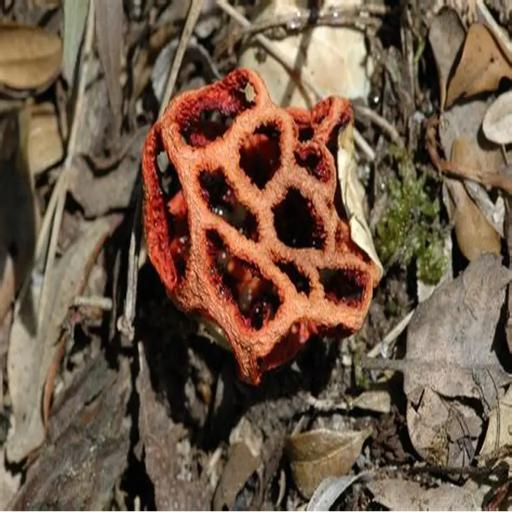mushroom: (138, 67, 385, 396)
